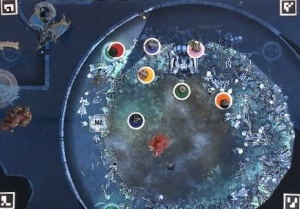blue: (126, 108, 148, 130)
green: (171, 79, 194, 101)
orange: (213, 89, 235, 110)
pink: (187, 38, 210, 60)
red: (108, 41, 124, 58)
violet: (143, 35, 162, 54)
yellow: (136, 63, 157, 84)
